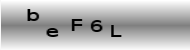6: (89, 19, 103, 33)
F: (71, 18, 83, 32)
L: (109, 23, 123, 38)
b: (26, 8, 40, 21)
e: (44, 27, 59, 38)
